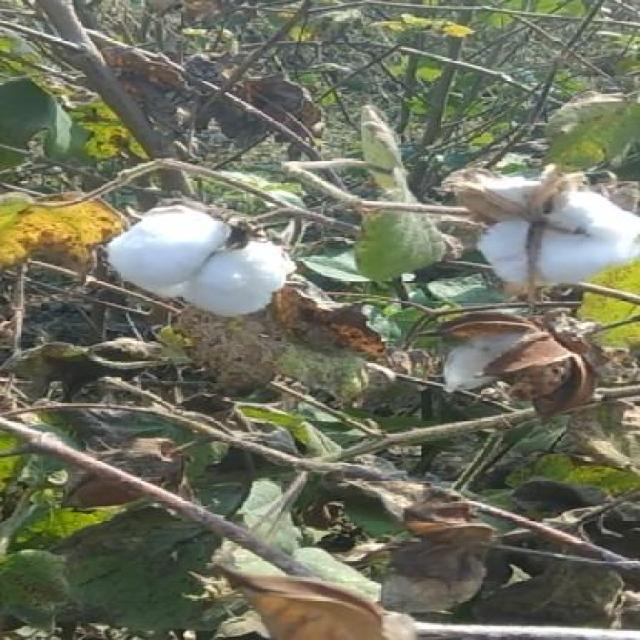cotton_ready: (93, 199, 350, 338), (435, 150, 639, 298)
